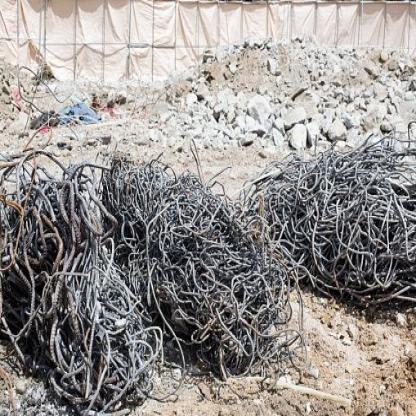rebar: (0, 128, 415, 412)
